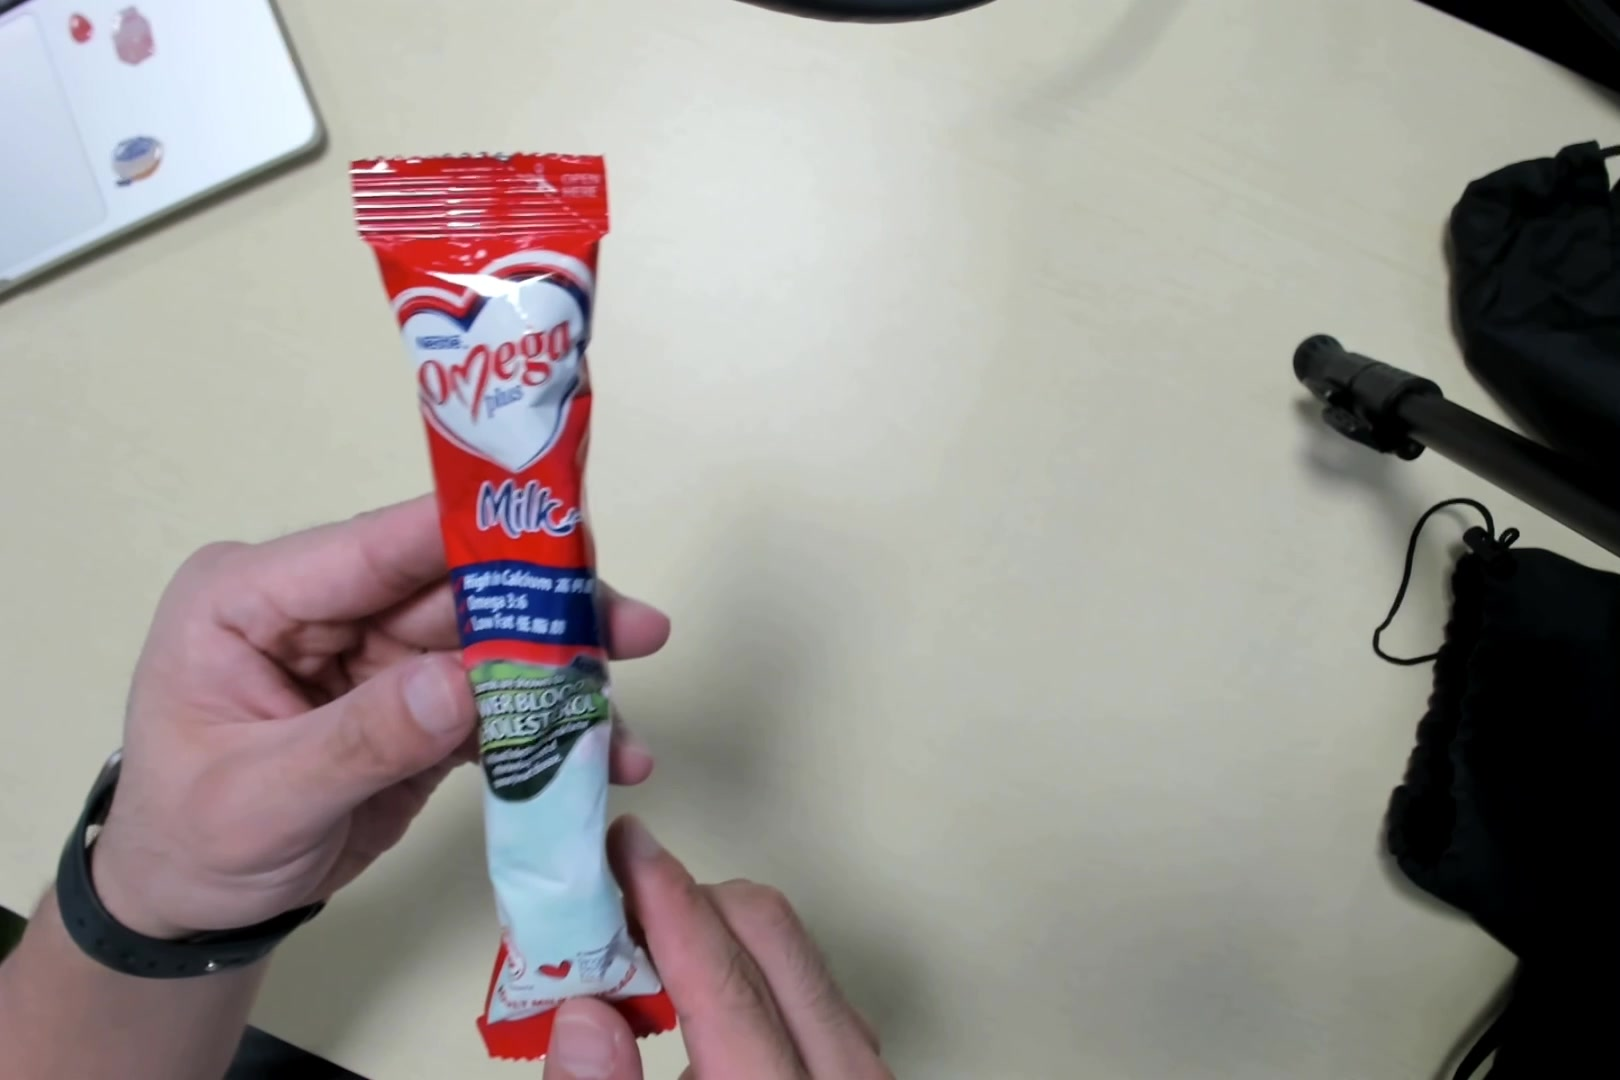MilkPowder_0-99g_Halal_NonHealthy: (375, 151, 673, 1051)
